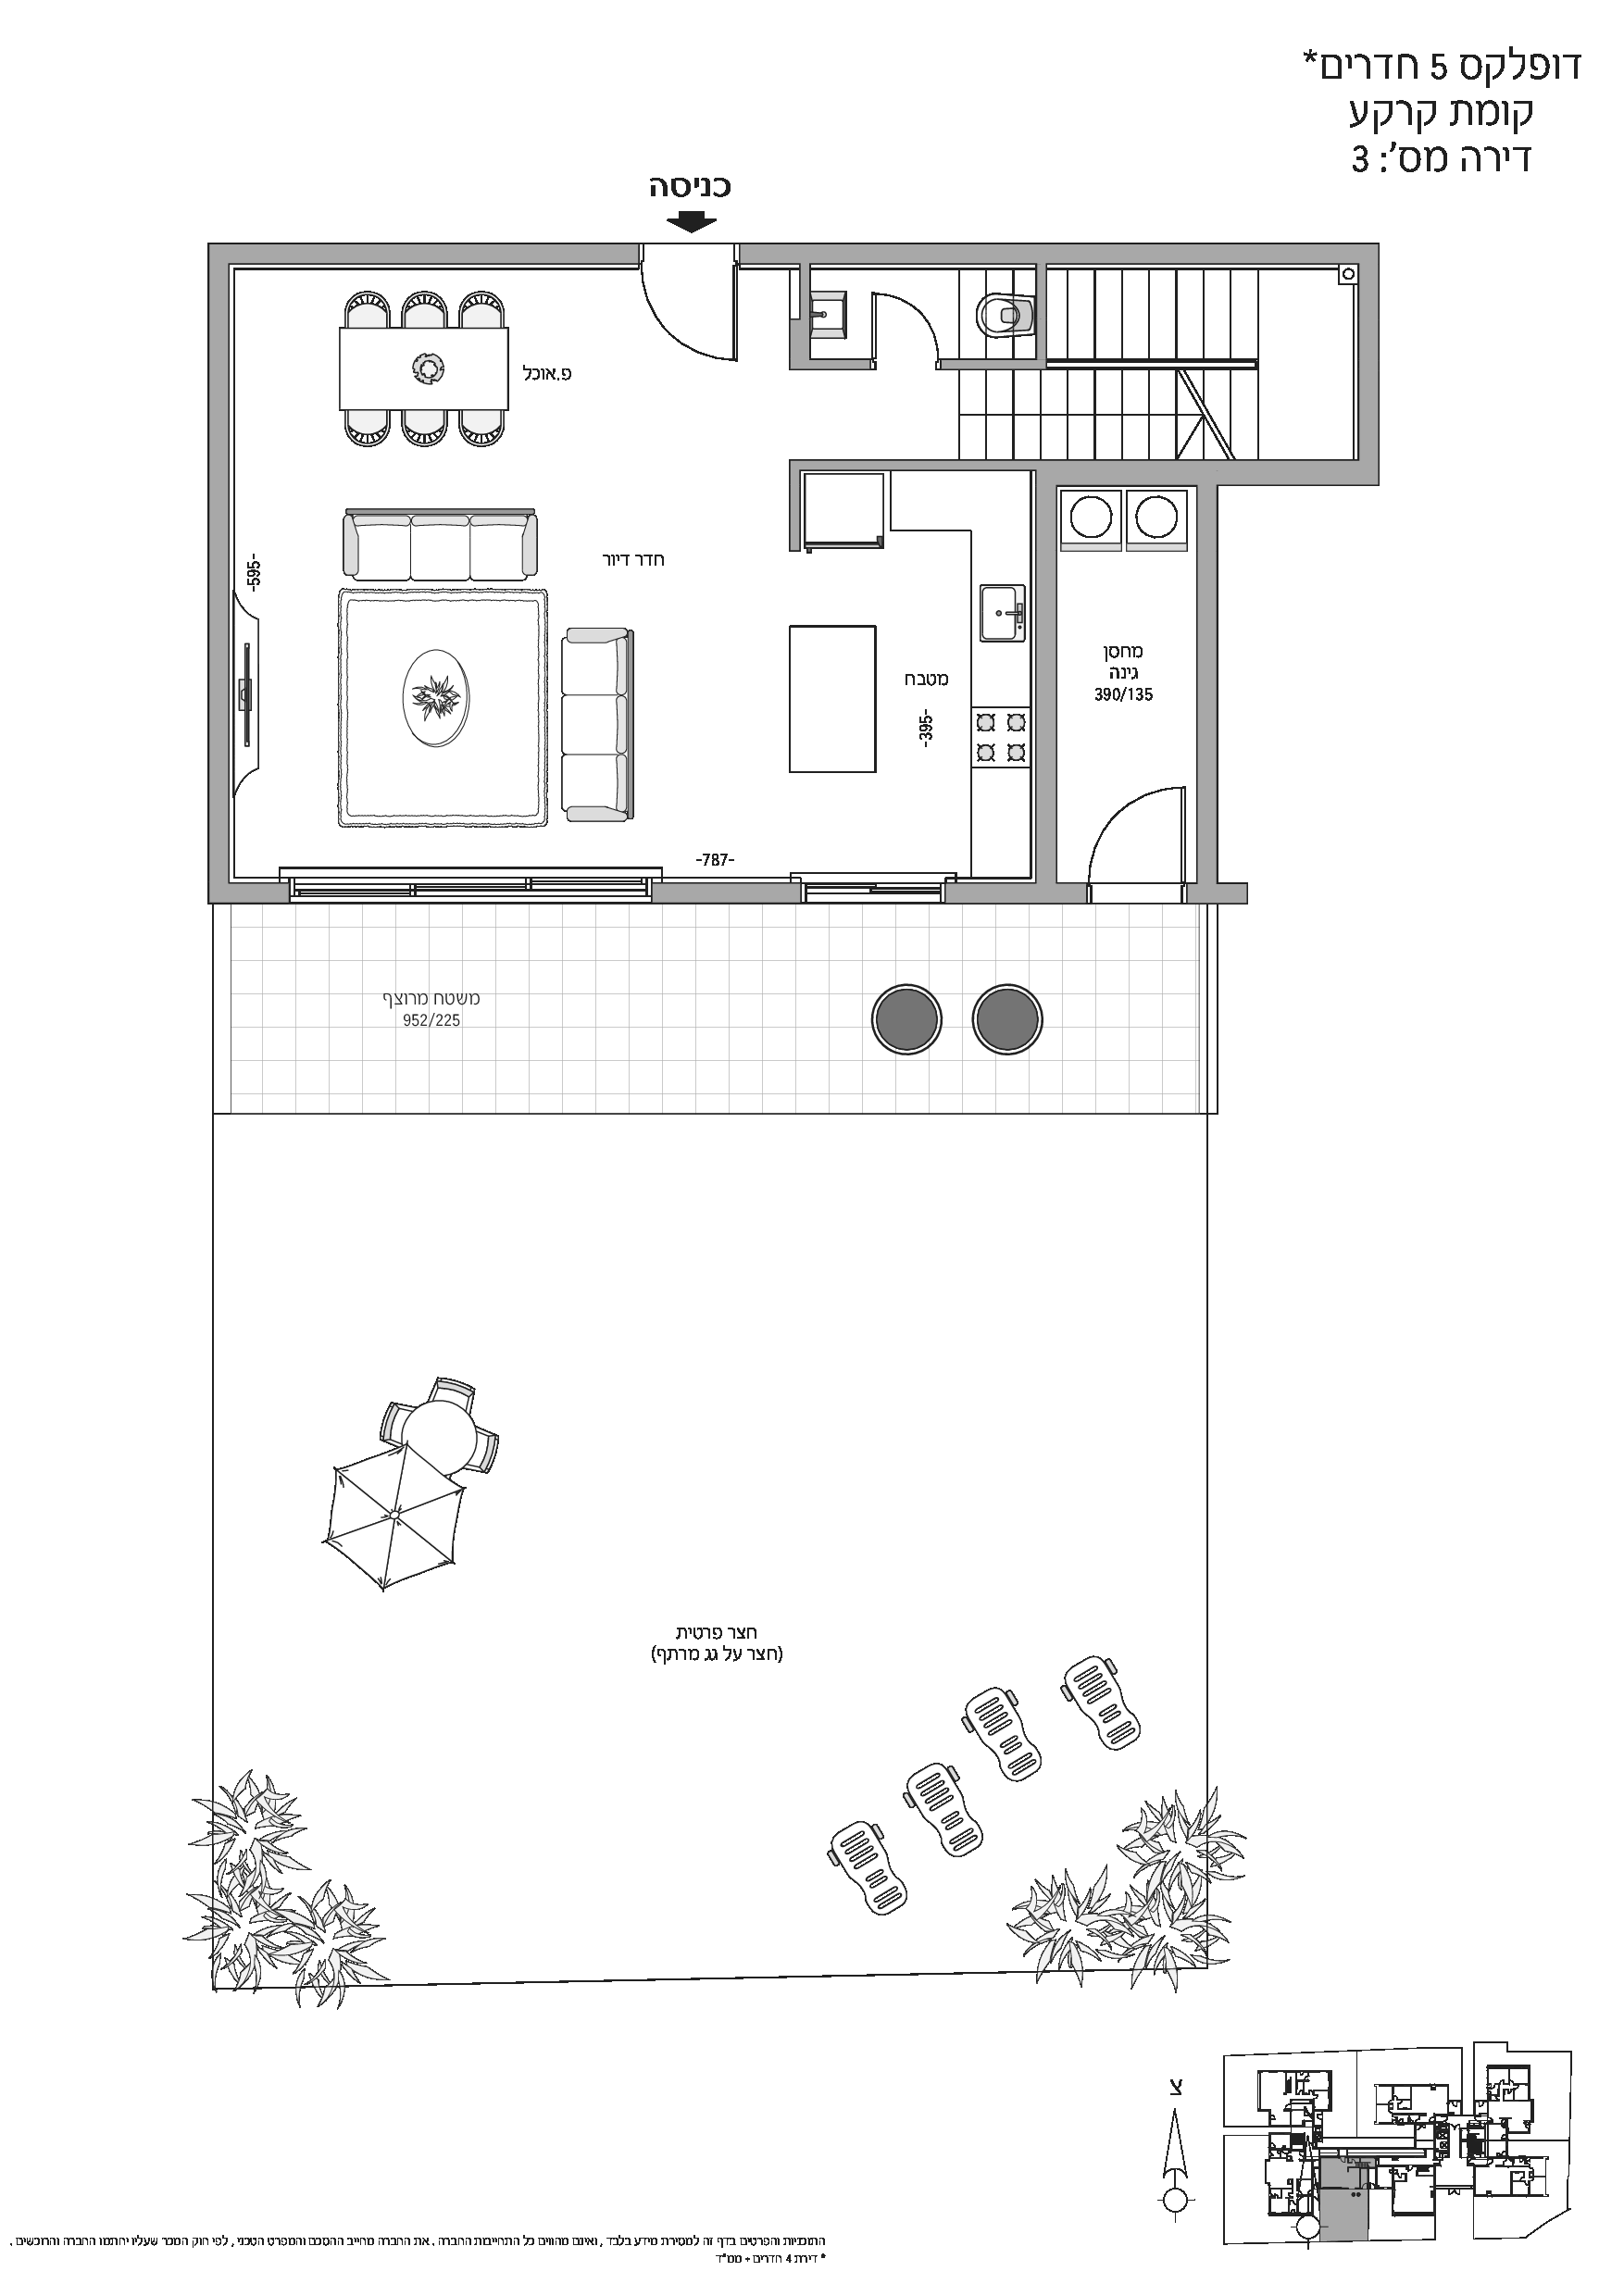room: (207, 242, 798, 905), (1033, 460, 1220, 903), (786, 242, 1048, 371)
